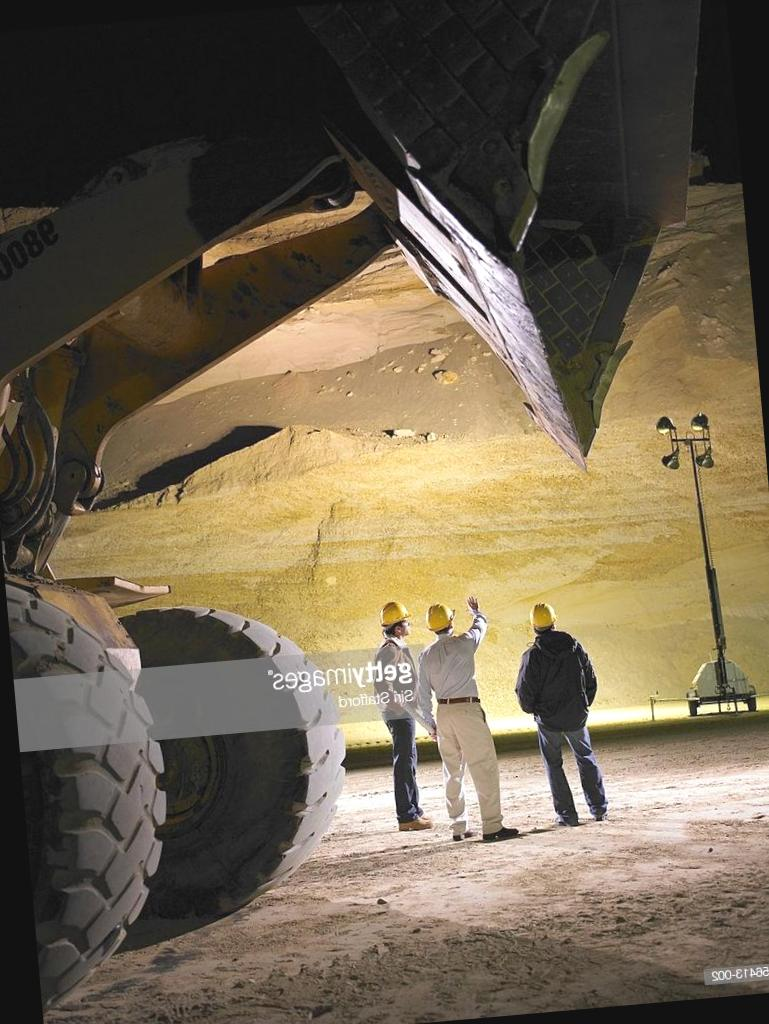helmet: (418, 598, 461, 637), (366, 596, 412, 632), (522, 601, 564, 637)
no_vest: (512, 629, 602, 736), (416, 632, 486, 716), (365, 636, 423, 733)
person: (507, 590, 616, 835), (413, 591, 514, 848), (350, 598, 432, 838)
